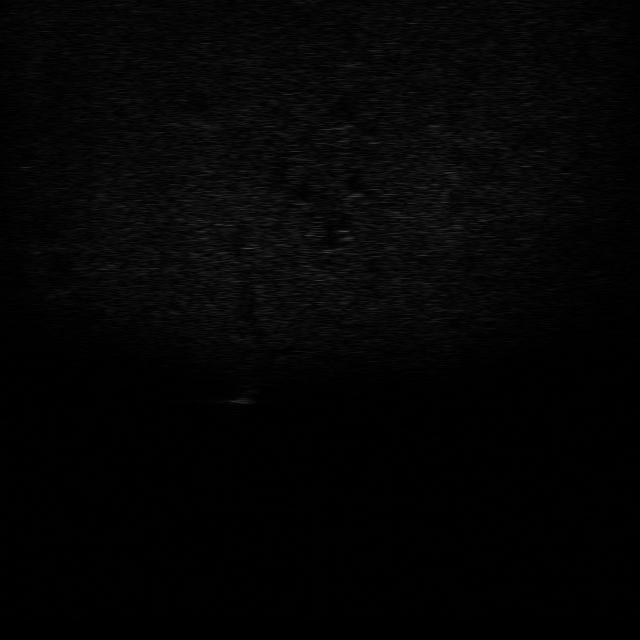human body: (225, 372, 261, 416)
